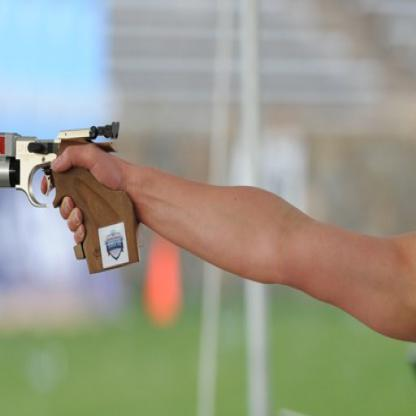gun: (0, 114, 141, 280)
